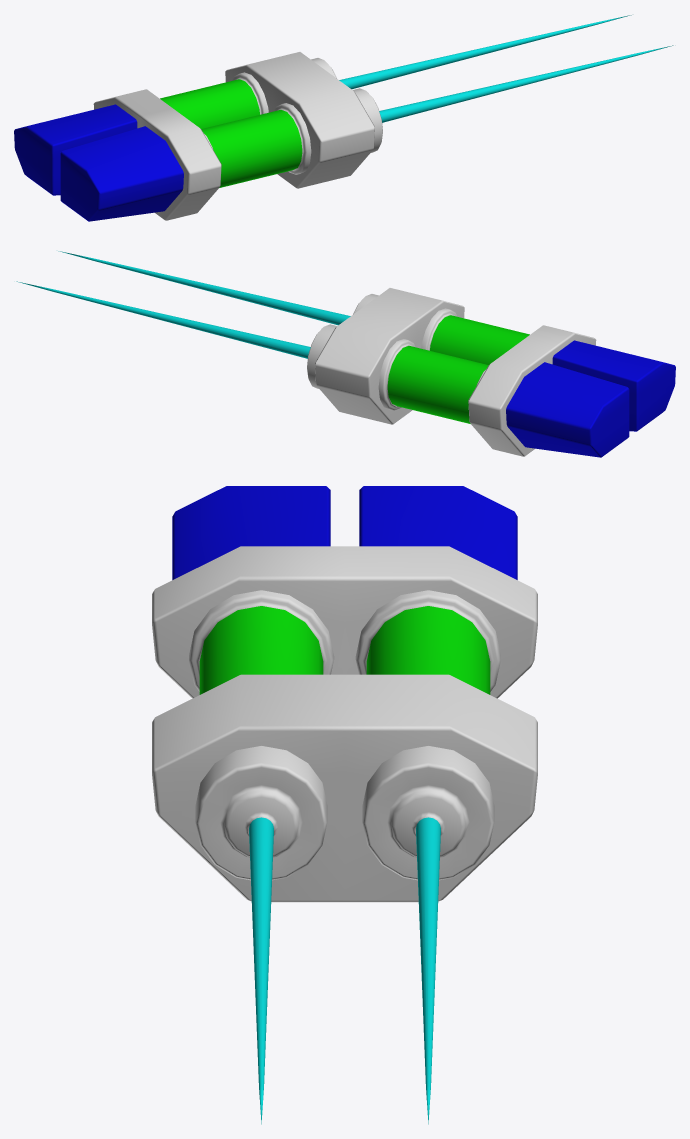
File: SM_QuickUseItemMediumHealth.fbx
3 renders of one model, top to bottom at view 1: azimuth 30°, elevation 25°; view 2: azimuth 150°, elevation 25°; view 3: azimuth 270°, elevation 25°, orthographic. The views are drawn at different scales.
Parts seen in each view (by area): view 1: MediumHealthPickup, MediumHealthPickup_Needle; view 2: MediumHealthPickup, MediumHealthPickup_Needle; view 3: MediumHealthPickup, MediumHealthPickup_Needle.
Part boxes in pixels (x1,y1,x2,y2): MediumHealthPickup: (14,52,374,221); MediumHealthPickup_Needle: (311,15,673,153); MediumHealthPickup: (315,288,675,457); MediumHealthPickup_Needle: (16,251,378,389); MediumHealthPickup: (152,486,537,902); MediumHealthPickup_Needle: (195,746,494,1124).
Bounding box in the file's own units: 33.84 × 9.45 × 4.77.
